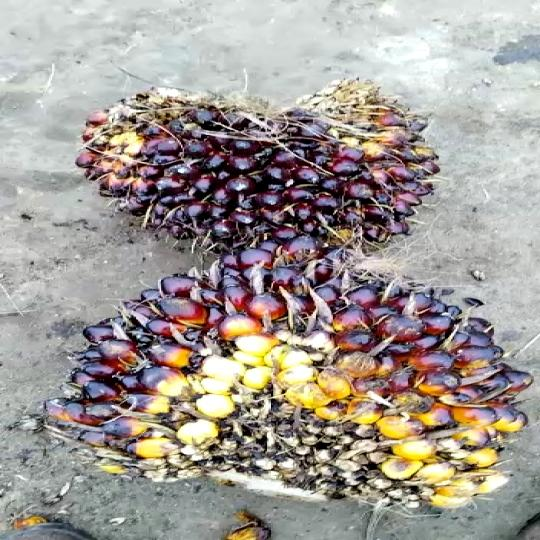kurang masak: (35, 260, 529, 519), (72, 80, 436, 263)
